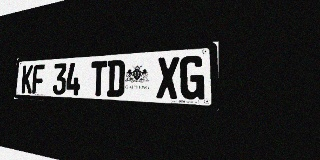3: (53, 63, 67, 95)
4: (66, 62, 81, 95)
D: (107, 60, 125, 97)
F: (32, 64, 45, 94)
G: (180, 55, 205, 100)
K: (21, 65, 33, 94)
T: (90, 61, 107, 96)
X: (156, 56, 179, 99)
